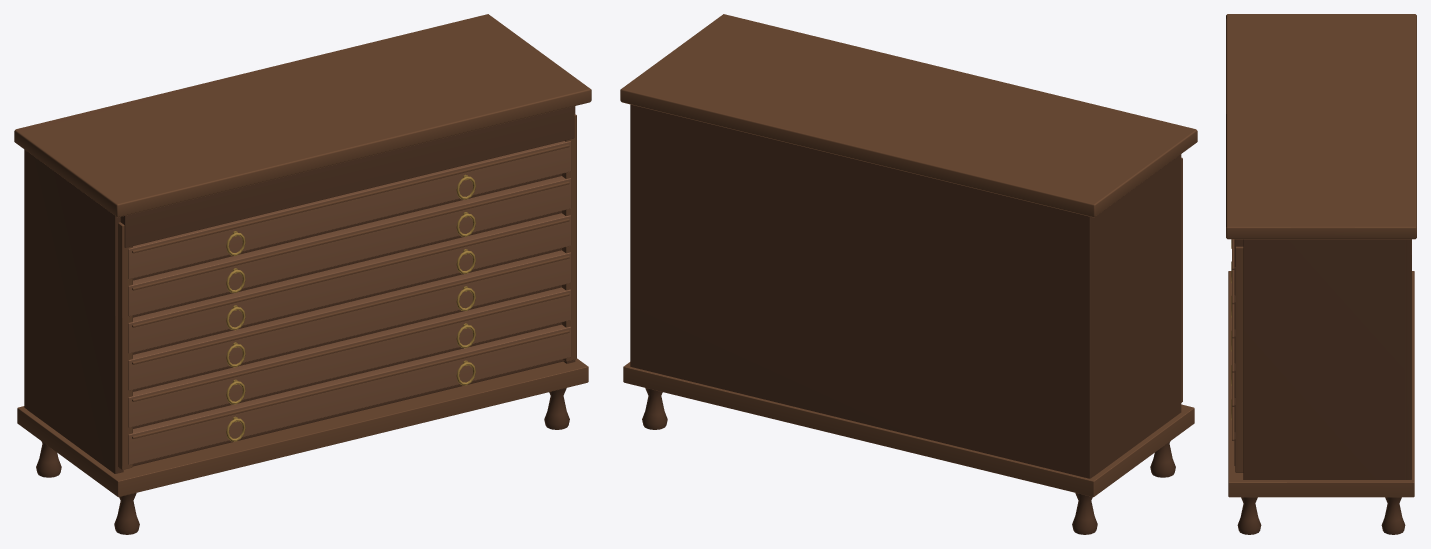
The model's file is rpg-mansion-map-flatfile-01.glb.
3 views of the same model, side by side, from view 1: azimuth 30°, elevation 25°; view 2: azimuth 150°, elevation 25°; view 3: azimuth 270°, elevation 25° (orthographic). The views are drawn at different scales.
Parts seen in each view (by area): view 1: rpg-mansion-map-flatfile-01; view 2: rpg-mansion-map-flatfile-01; view 3: rpg-mansion-map-flatfile-01.
Boxes of the visible parts, box(x1,y1,x2,y2) form: rpg-mansion-map-flatfile-01: box(14, 14, 591, 534); rpg-mansion-map-flatfile-01: box(620, 14, 1197, 534); rpg-mansion-map-flatfile-01: box(1226, 14, 1416, 534).
Size of the model in its own units: 1.37 by 0.934 by 0.515.
